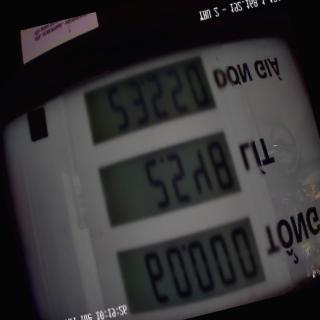screen: (64, 29, 276, 320)
